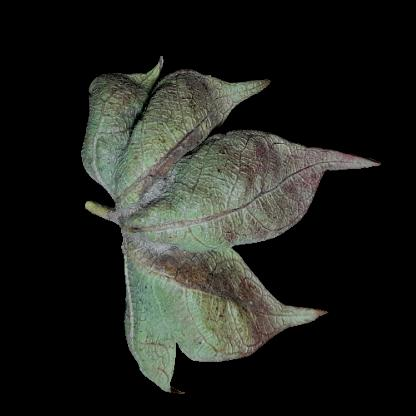curl_stage2: (144, 172, 238, 245), (119, 124, 166, 216), (88, 84, 138, 170), (139, 290, 201, 348), (165, 84, 242, 126), (142, 350, 174, 385)
sooty: (250, 146, 321, 222), (205, 275, 263, 357), (136, 249, 222, 291)
